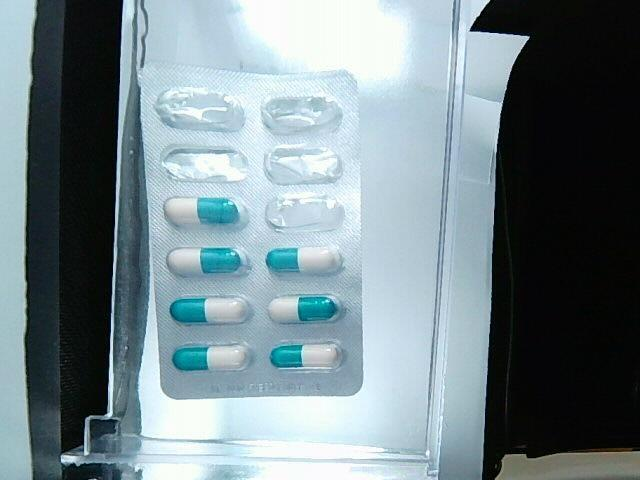Light Front: (138, 65, 365, 401)
No Pill Front: (154, 88, 245, 131), (161, 145, 248, 181), (261, 96, 342, 134), (264, 145, 342, 184), (265, 193, 343, 232)
Pill Front: (164, 198, 249, 231), (166, 248, 249, 276), (173, 345, 251, 371), (170, 298, 248, 324), (269, 295, 341, 323), (266, 248, 342, 273), (271, 344, 341, 369)
